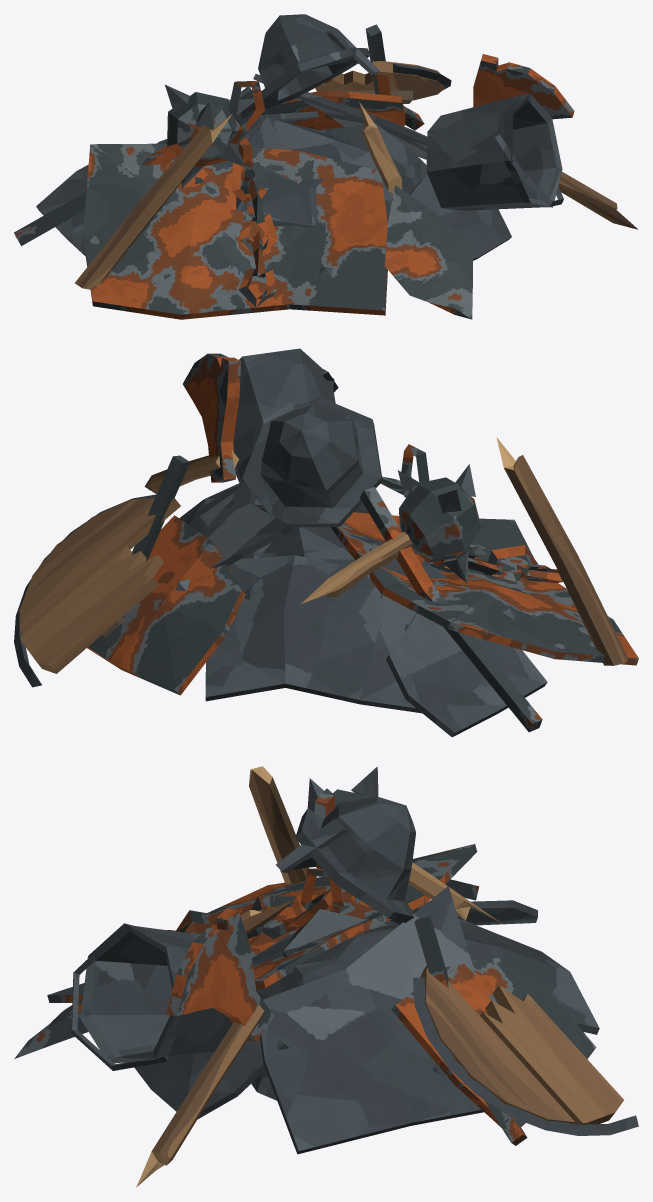
File: SM_ScrapMetalPile.fbx
3 views of the same model, one above another, from view 1: azimuth 30°, elevation 25°; view 2: azimuth 150°, elevation 25°; view 3: azimuth 270°, elevation 25° (orthographic). The views are drawn at different scales.
Parts seen in each view (by area): view 1: SM_ScrapMetalPile; view 2: SM_ScrapMetalPile; view 3: SM_ScrapMetalPile.
Boxes of the visible parts, x1,y1,x2,y2 form: SM_ScrapMetalPile: [14, 14, 638, 319]; SM_ScrapMetalPile: [14, 348, 638, 737]; SM_ScrapMetalPile: [14, 766, 638, 1187].
Bounding box in the file's own units: 1.15 × 0.4407 × 1.03.
